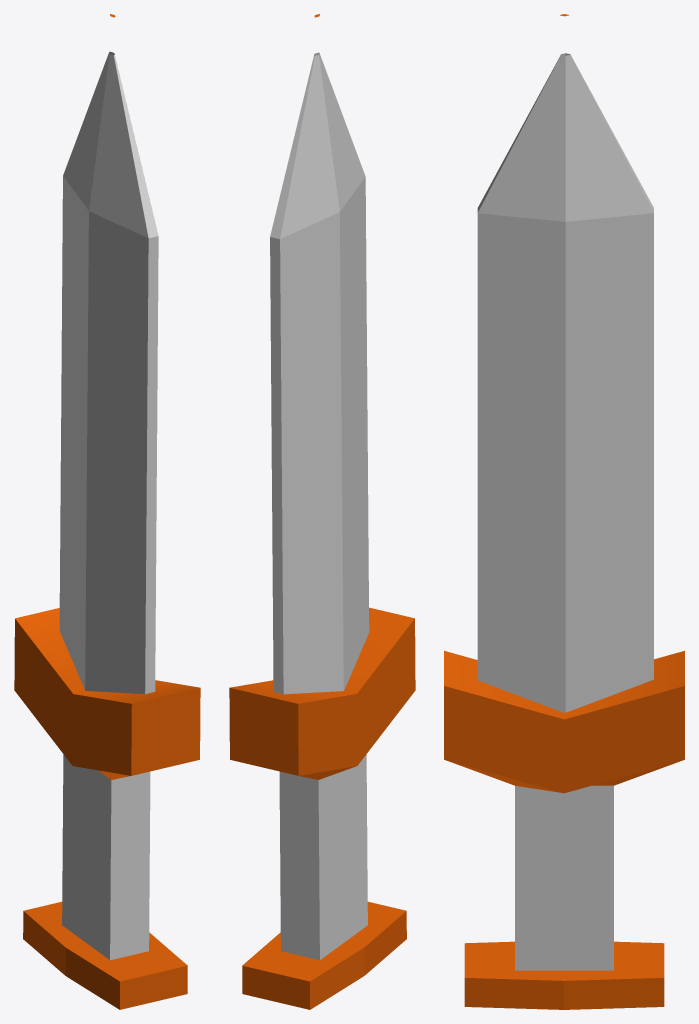
3 views of the same model, side by side, from view 1: azimuth 30°, elevation 25°; view 2: azimuth 150°, elevation 25°; view 3: azimuth 270°, elevation 25° (orthographic). The views are drawn at different scales.
Visible parts, largest first — view 1: Cube.002, Cube.001; view 2: Cube.002, Cube.001; view 3: Cube.002, Cube.001.
Boxes of the visible parts, x1,y1,x2,y2 form: Cube.002: (59, 51, 158, 693); Cube.001: (14, 14, 200, 1009); Cube.002: (270, 52, 369, 694); Cube.001: (229, 14, 415, 1009); Cube.002: (477, 53, 653, 712); Cube.001: (444, 14, 684, 1009).
Size of the model in its own units: 32.07 by 364 by 81.3.
